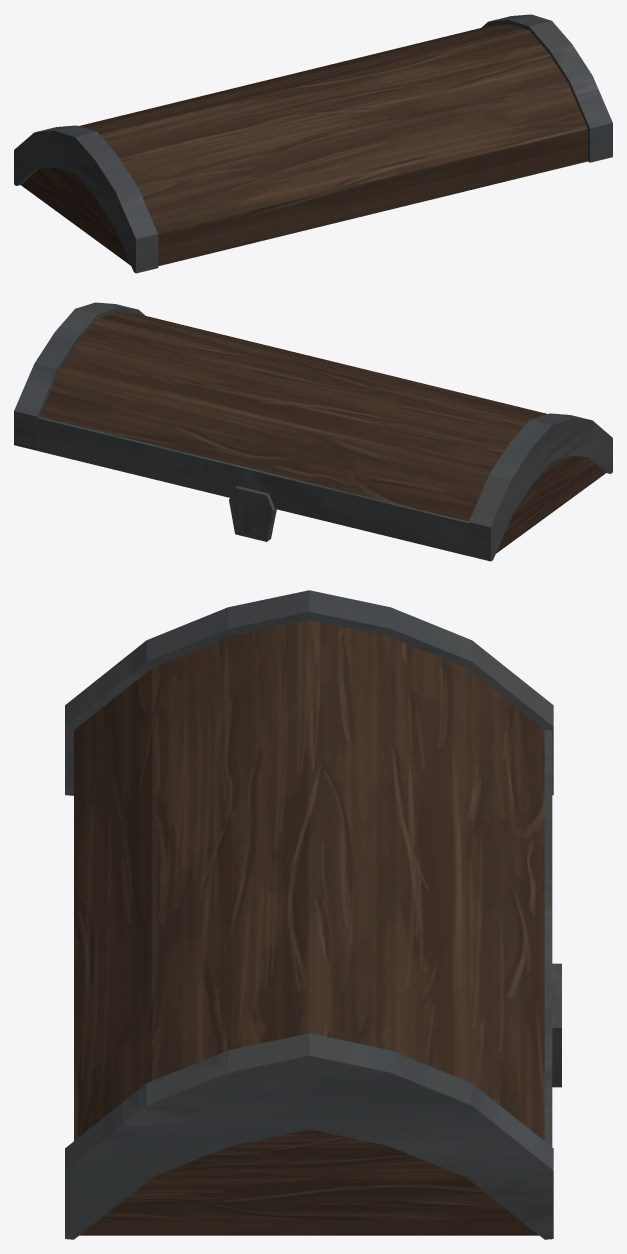
Rendered from truhe_top.glb.
3 renders of one model, top to bottom at view 1: azimuth 30°, elevation 25°; view 2: azimuth 150°, elevation 25°; view 3: azimuth 270°, elevation 25°, orthographic. The views are drawn at different scales.
Parts seen in each view (by area): view 1: Cube.222; view 2: Cube.222; view 3: Cube.222.
Boxes of the visible parts, x1=… form: Cube.222: x1=14, y1=14, x2=612, y2=273; Cube.222: x1=14, y1=302, x2=612, y2=561; Cube.222: x1=65, y1=590, x2=561, y2=1239.
Bounding box in the file's own units: 1.31 × 0.3274 × 0.5904.
Materials: 2 (2 with a texture image).
